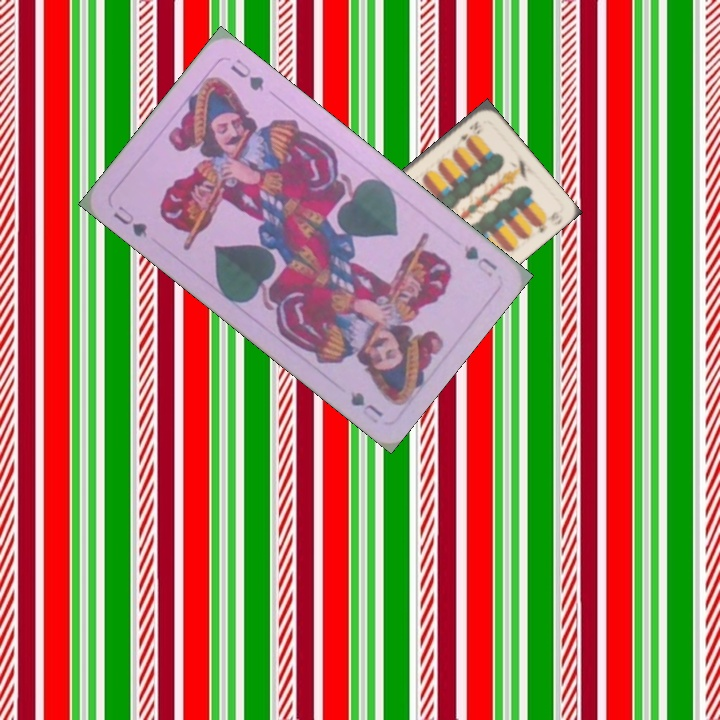E10: (452, 117, 483, 148)
GU: (109, 201, 150, 240), (459, 241, 500, 280)
